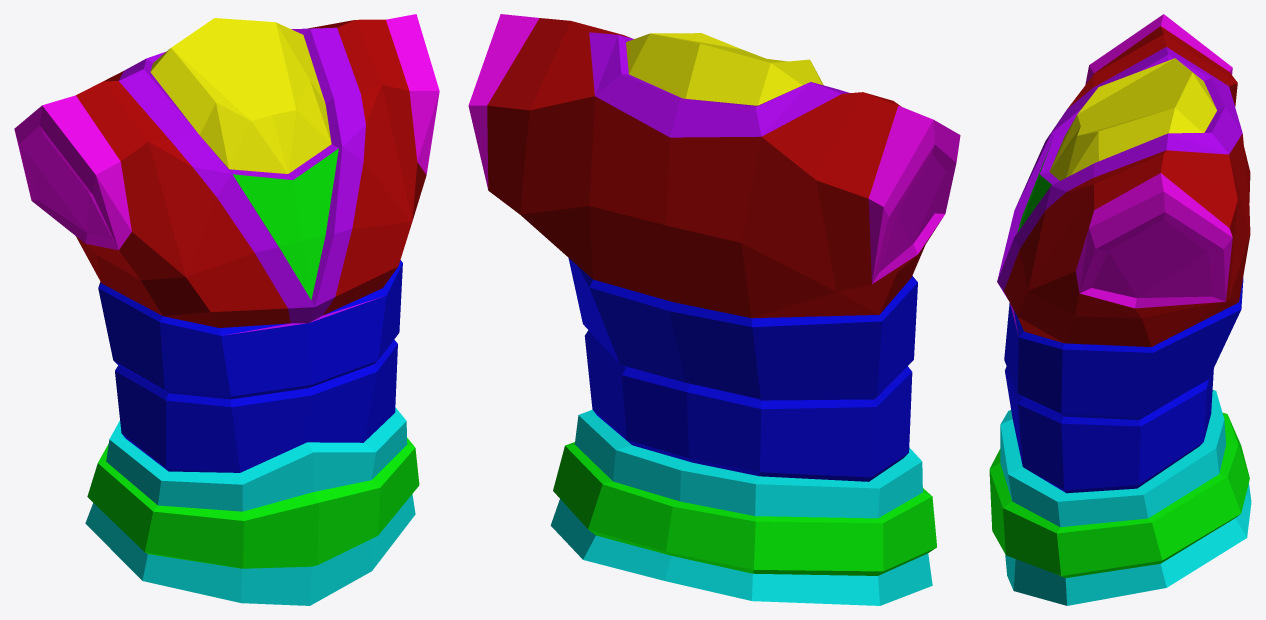
Rendered from Chr_Torso_Male_Static_11.fbx.
The picture shows the model from 3 angles, left to right: view 1: azimuth 30°, elevation 25°; view 2: azimuth 150°, elevation 25°; view 3: azimuth 270°, elevation 25°; orthographic projection. The views are drawn at different scales.
Visible parts, largest first — view 1: Chr_Torso_Male_11; view 2: Chr_Torso_Male_11; view 3: Chr_Torso_Male_11.
Boxes of the visible parts, bbox=[...] form: Chr_Torso_Male_11: bbox=[14, 14, 439, 605]; Chr_Torso_Male_11: bbox=[468, 14, 960, 605]; Chr_Torso_Male_11: bbox=[989, 14, 1251, 605].
Bounding box in the file's own units: 50.2 × 65.85 × 31.07.
